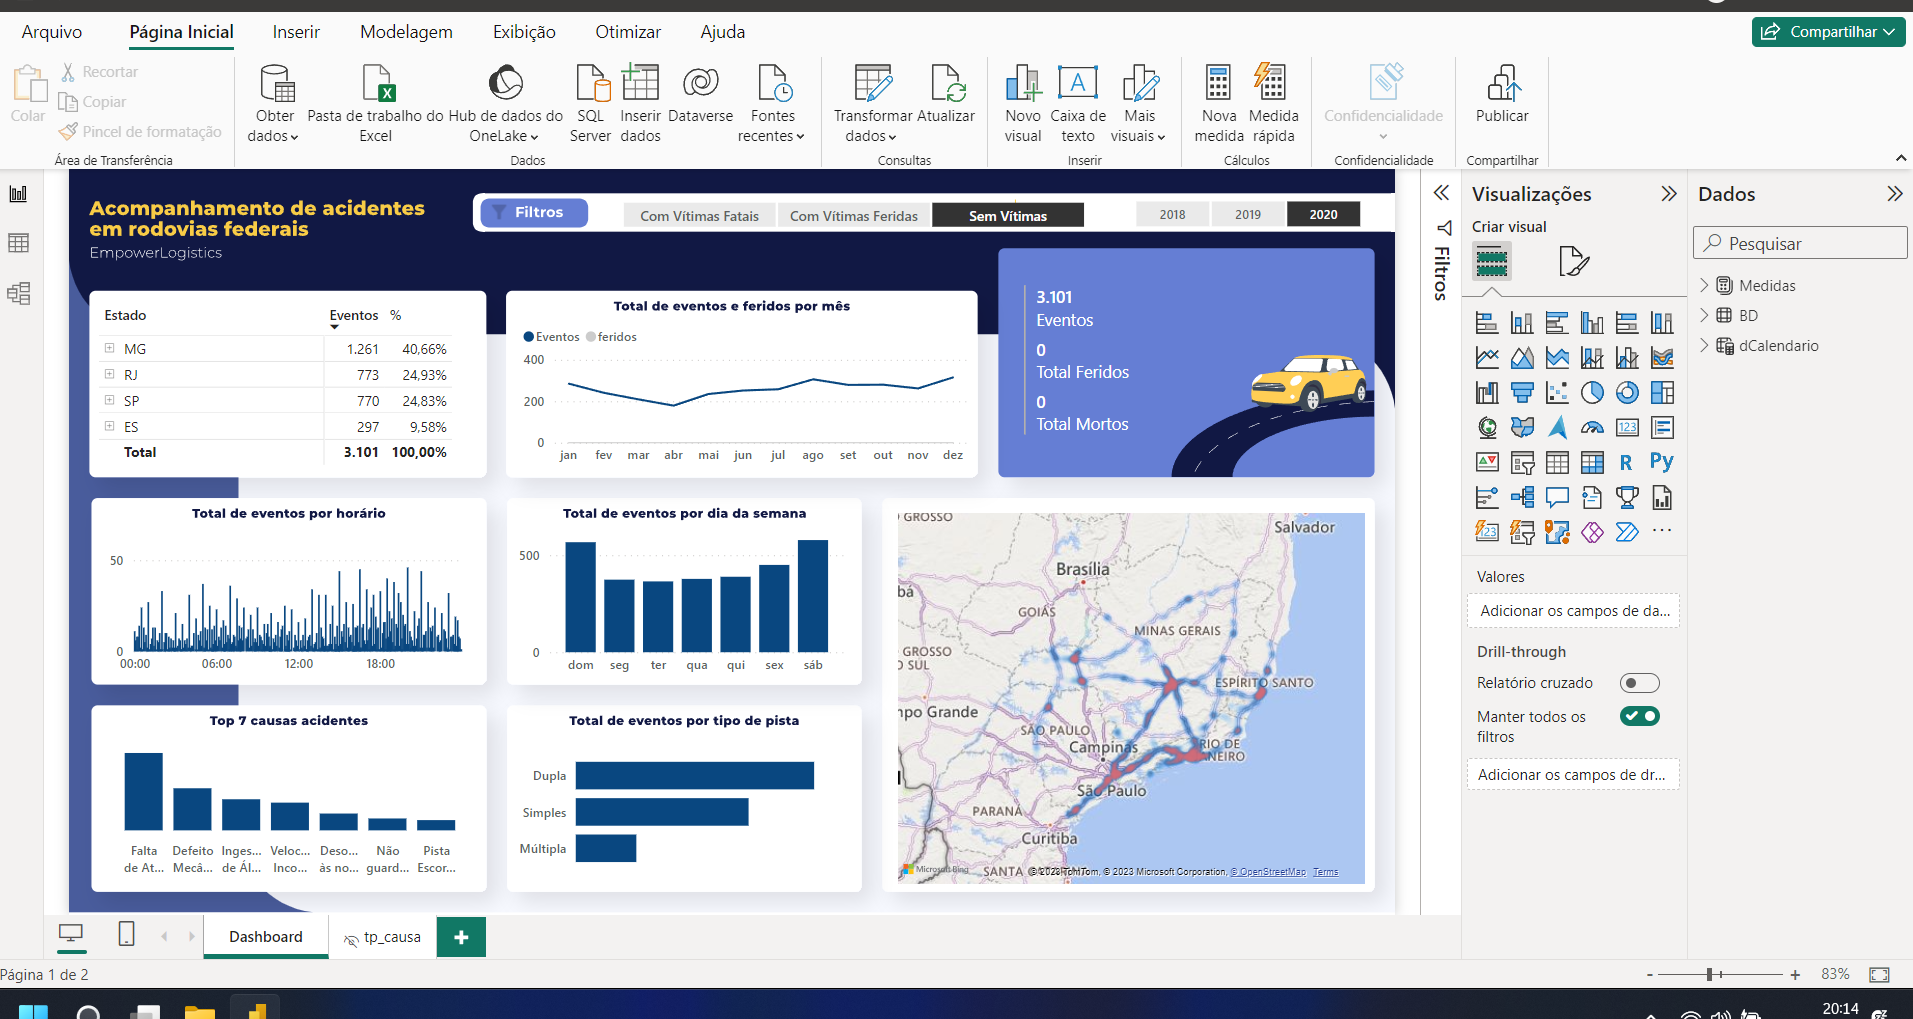

This screenshot's page, from the dashboard's own definition file:
{"tool":"powerbi","page":{"name":"Dashboard","canvas":[1280,720],"ordinal":0},"visuals":[{"type":"clusteredColumnChart","fields":{"Category":["BD.hora"],"Y":["Medidas.total_eventos"]},"box":[33.9,346.5,364.8,149.4],"z":0},{"type":"slicer","fields":{"Values":["dCalendario.ano"]},"box":[1004,24.3,266.6,31.3],"z":1000},{"type":"pivotTable","fields":{"Rows":["BD.uf","BD.municipio"],"Values":["Medidas.total_eventos","Divide(Medidas.total_eventos, ScopedEval(Medidas.total_eventos, []))"]},"box":[24.6,123.1,373.6,173.2],"z":2000},{"type":"lineChart","fields":{"Y":["Medidas.total_eventos","Medidas.feridos"],"Category":["dCalendario.nome_mes"]},"box":[432.5,142.4,438.6,152],"z":3000},{"type":"clusteredColumnChart","fields":{"Category":["BD.causa_acidente"],"Y":["Medidas.total_eventos"]},"box":[24.3,544.6,373.5,144.2],"z":5000},{"type":"multiRowCard","fields":{"Values":["Medidas.total_eventos","Medidas.feridos","Medidas.mortos"]},"box":[917.2,107.7,173.7,173.7],"z":6000},{"type":"clusteredColumnChart","fields":{"Category":["dCalendario.dia_semana"],"Y":["Medidas.total_eventos"]},"box":[429,340.5,324,156.3],"z":7000},{"type":"barChart","fields":{"Category":["BD.tipo_pista"],"Y":["Medidas.total_eventos"]},"box":[428.2,544.8,323.8,144.3],"z":8000},{"type":"slicer","fields":{"Values":["BD.classificacao_acidente"]},"box":[494.2,24.3,502,29.5],"z":9000}]}

Visuals, with their boxes on the page's 1280x720 design canvas (x1, y1, x2, y2). These are canvas units, not pixel positions in the 1913x1019 screenshot, which may show the page scaled, cropped or inside an application window:
clusteredColumnChart - BD.hora x Medidas.total_eventos: 34,346,399,496
slicer - dCalendario.ano: 1004,24,1271,56
pivotTable - BD.uf x BD.municipio: 25,123,398,296
lineChart - Medidas.total_eventos x Medidas.feridos: 432,142,871,294
clusteredColumnChart - BD.causa_acidente x Medidas.total_eventos: 24,545,398,689
multiRowCard - Medidas.total_eventos x Medidas.feridos: 917,108,1091,281
clusteredColumnChart - dCalendario.dia_semana x Medidas.total_eventos: 429,340,753,497
barChart - BD.tipo_pista x Medidas.total_eventos: 428,545,752,689
slicer - BD.classificacao_acidente: 494,24,996,54
